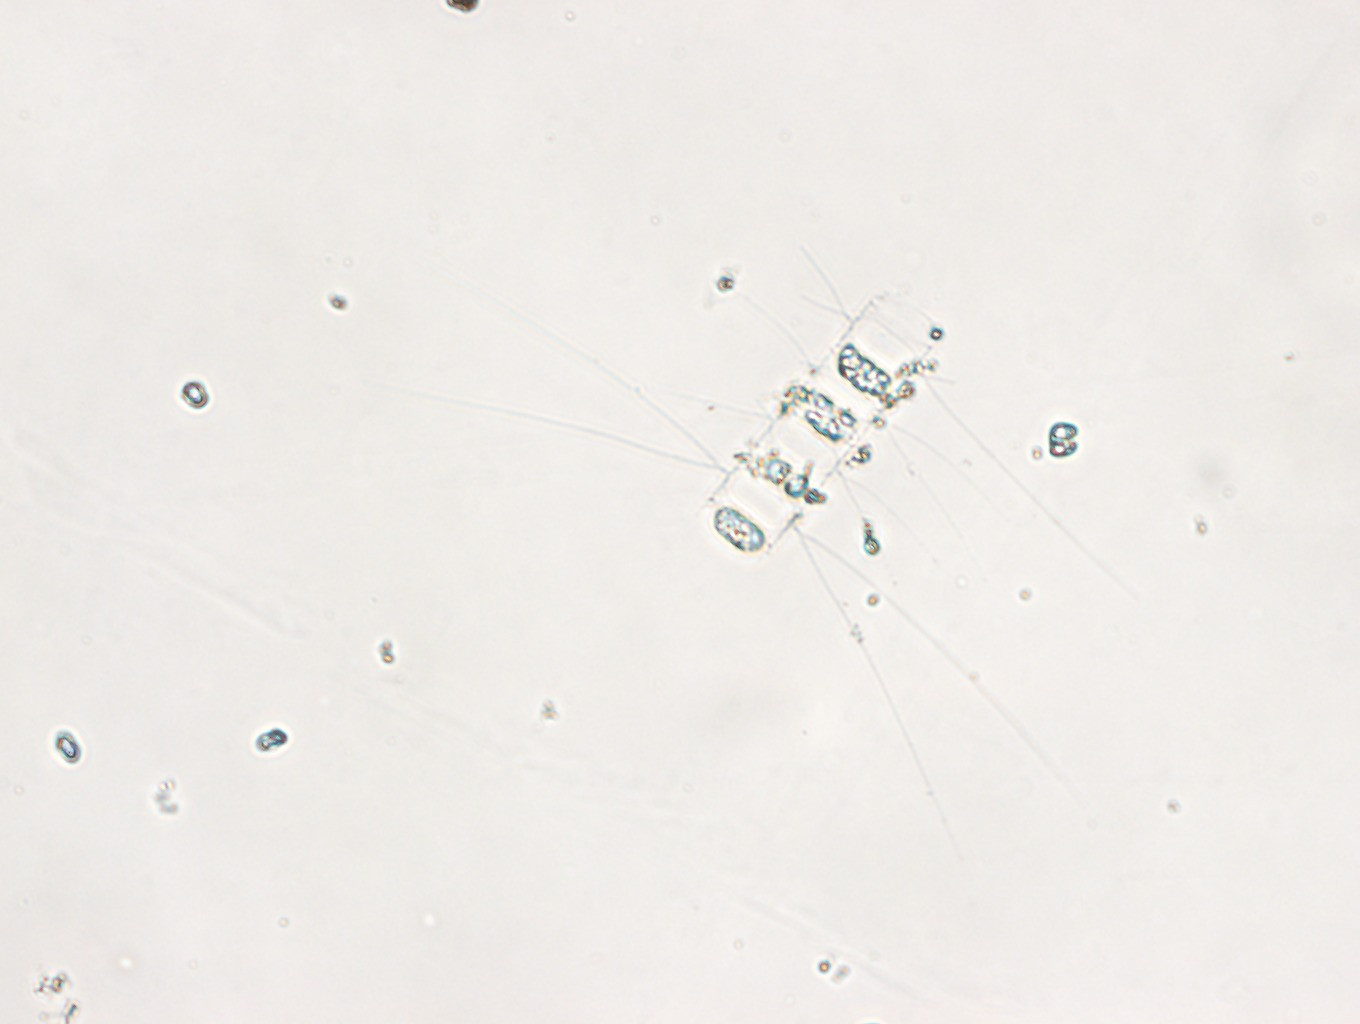chaetoceros: (393, 231, 1132, 844)
